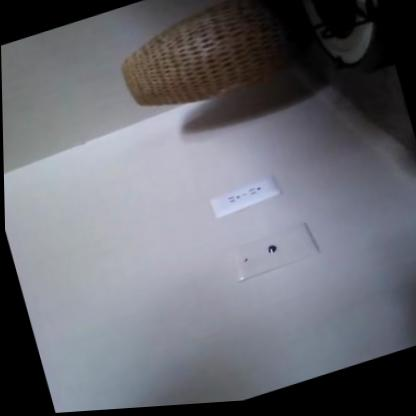OUTLET: (209, 175, 281, 220)
